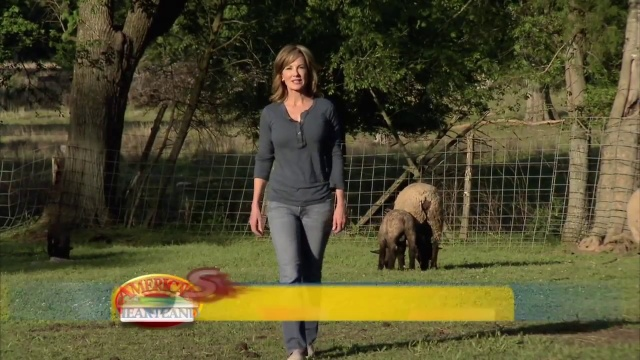person: (249, 42, 345, 353)
